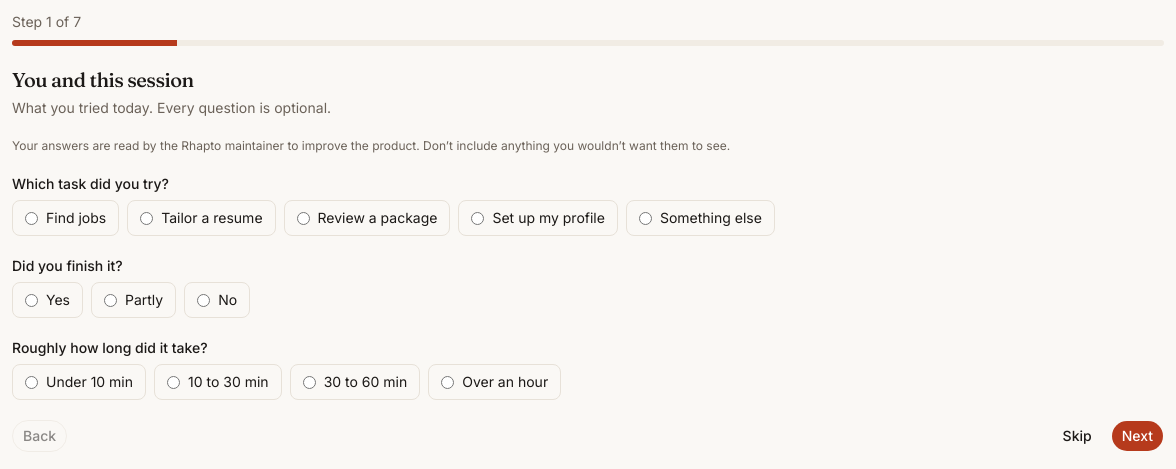
it: survey failures › survives a localStorage accessor that throws (blocked site data)
Expected: the heading "You and this session" is shown, [12,67,194,92]
What coordinates should you click on to do the following:
click the radio button labelled "Find jobs"
I would click on:
 (32, 218)
Its box is [25,212,38,224].
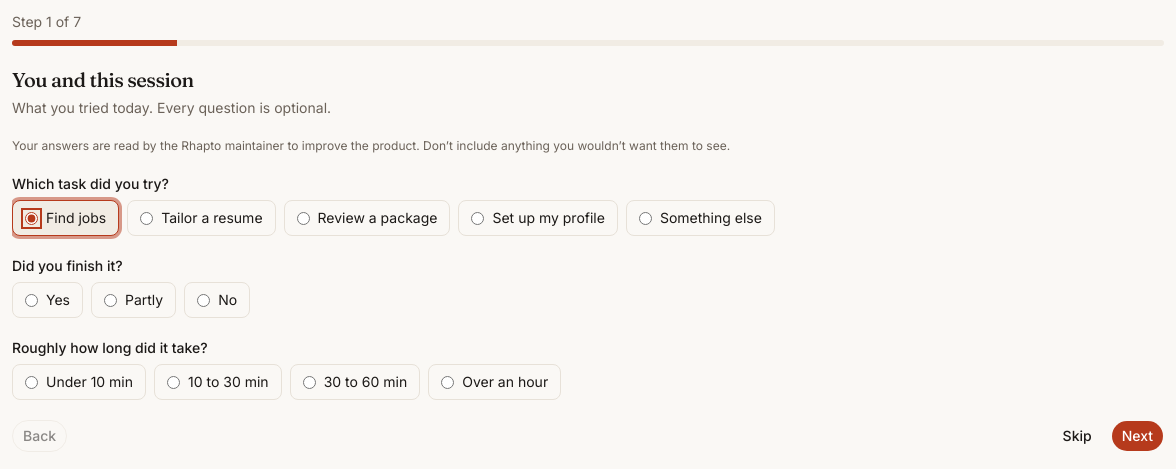
What coordinates should you click on to do the following:
click the button "Next"
I would click on:
 (1137, 436)
Its box is [1111,420,1164,452].
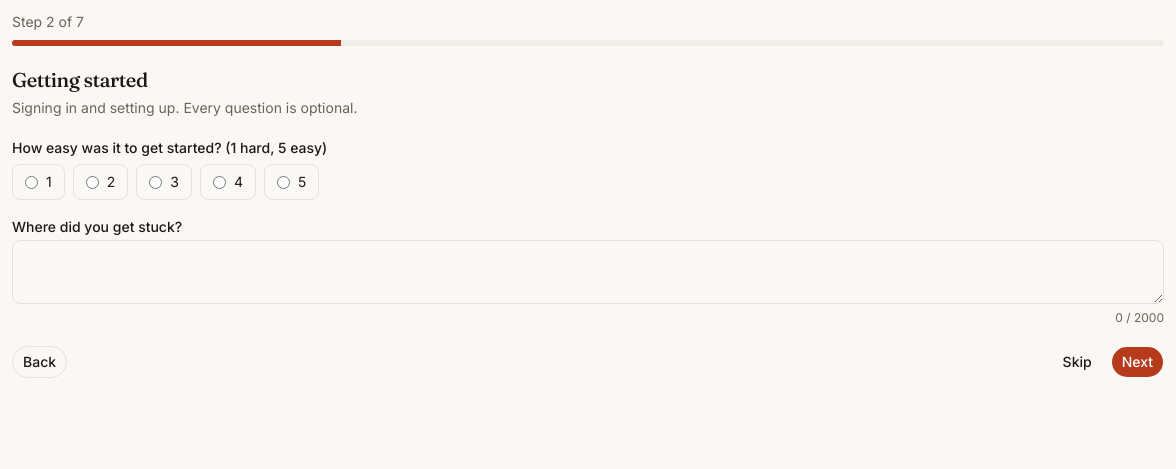
Expected: the heading "Getting started" is shown, [12,67,148,92]
